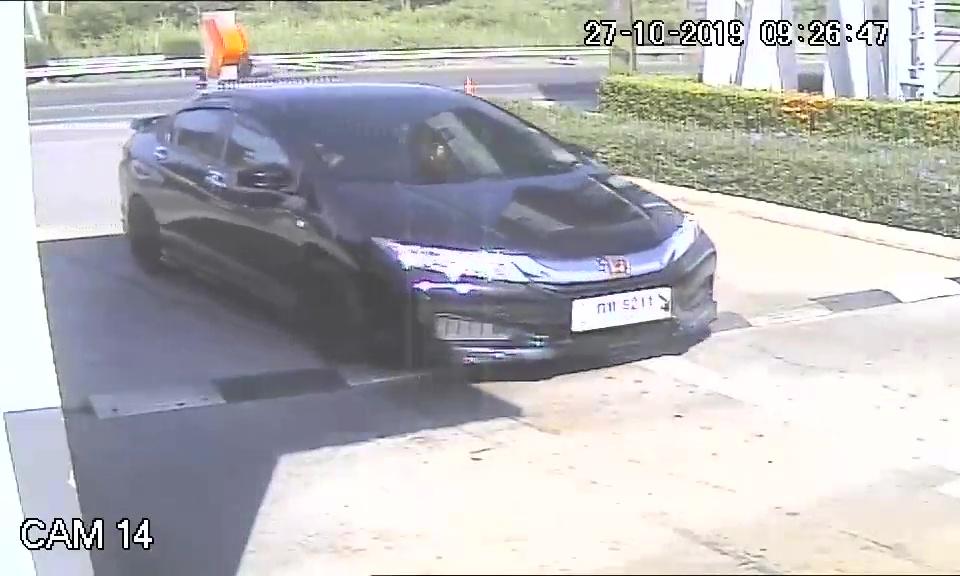sedan: (115, 81, 717, 383)
